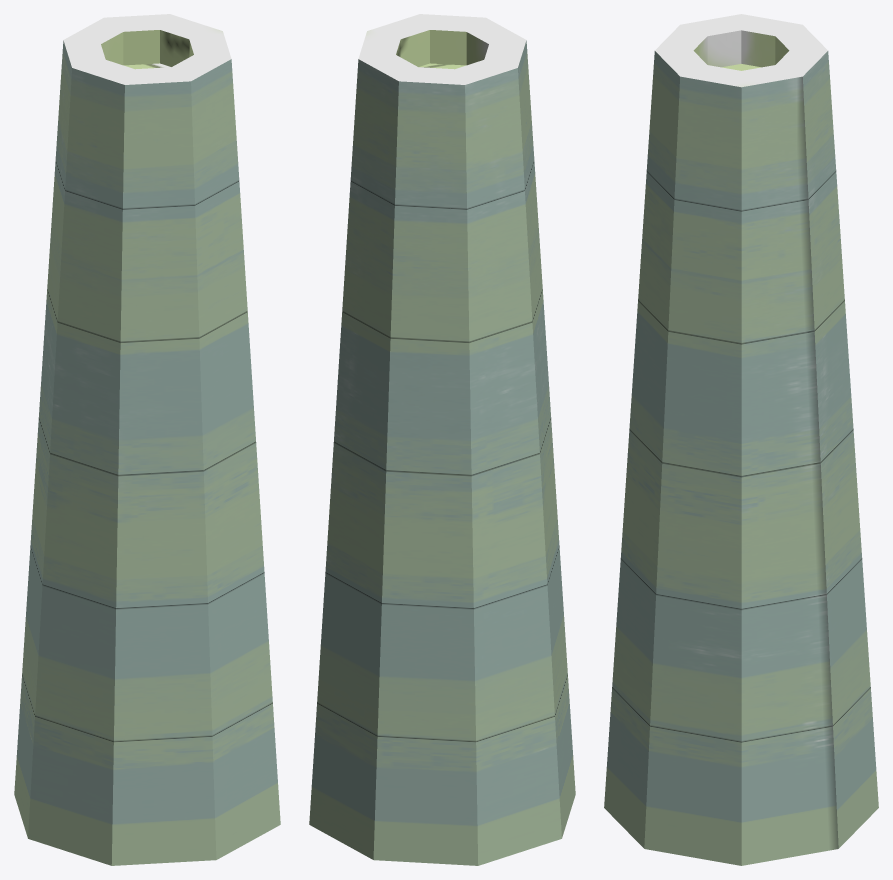
The model's file is Chimny1.fbx.
3 views of the same model, side by side, from view 1: azimuth 30°, elevation 25°; view 2: azimuth 150°, elevation 25°; view 3: azimuth 270°, elevation 25° (orthographic).
Visible parts, largest first — view 1: Chimny1; view 2: Chimny1; view 3: Chimny1.
Part boxes in pixels (bbox=[...]): Chimny1: bbox=[14, 14, 280, 865]; Chimny1: bbox=[309, 14, 575, 865]; Chimny1: bbox=[604, 14, 878, 865].
Size of the model in its own units: 19.89 by 60.46 by 19.89.
